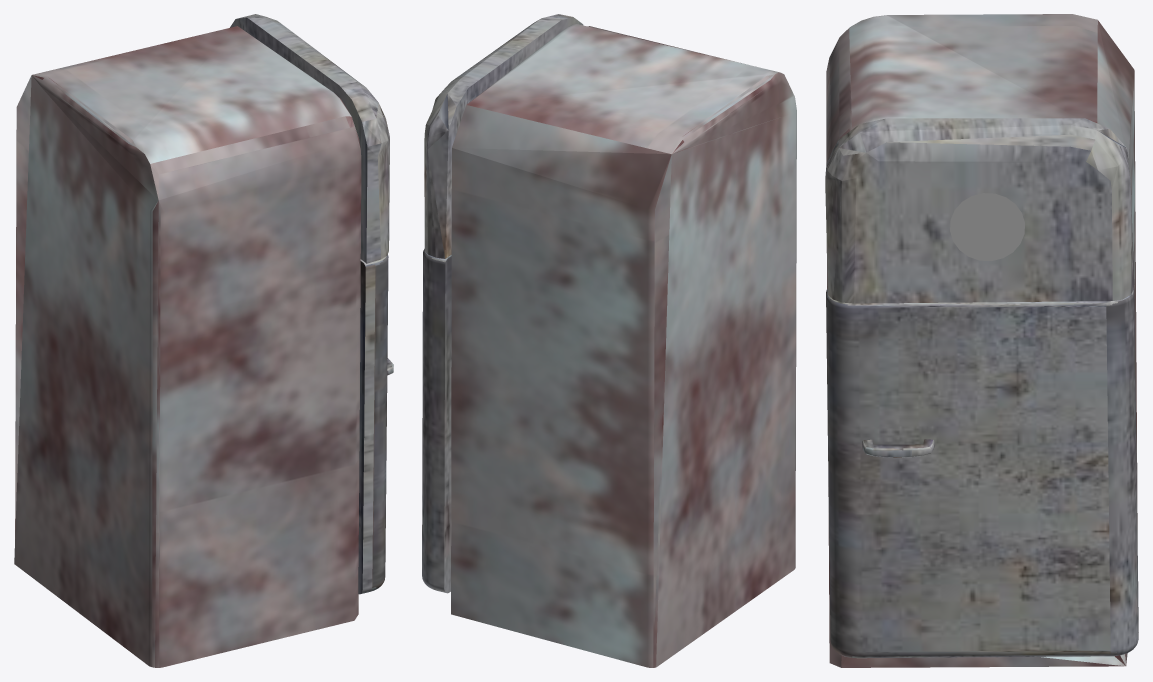
The model's file is fridge.glb.
3 views of the same model, side by side, from view 1: azimuth 30°, elevation 25°; view 2: azimuth 150°, elevation 25°; view 3: azimuth 270°, elevation 25° (orthographic). The views are drawn at different scales.
Visible parts, largest first — view 1: pCube15, polySurface5.001; view 2: pCube15, polySurface5.001; view 3: polySurface5.001, pCube15, pCylinder3.
Part boxes in pixels (bbox=[...]): pCube15: bbox=[14, 26, 361, 667]; polySurface5.001: bbox=[230, 14, 393, 594]; pCube15: bbox=[451, 24, 796, 667]; polySurface5.001: bbox=[422, 14, 583, 593]; polySurface5.001: bbox=[825, 118, 1138, 658]; pCube15: bbox=[826, 14, 1137, 667]; pCylinder3: bbox=[950, 193, 1024, 260].
Size of the model in its own units: 0.3158 by 0.5922 by 0.3052.
3 materials, 2 textured.
